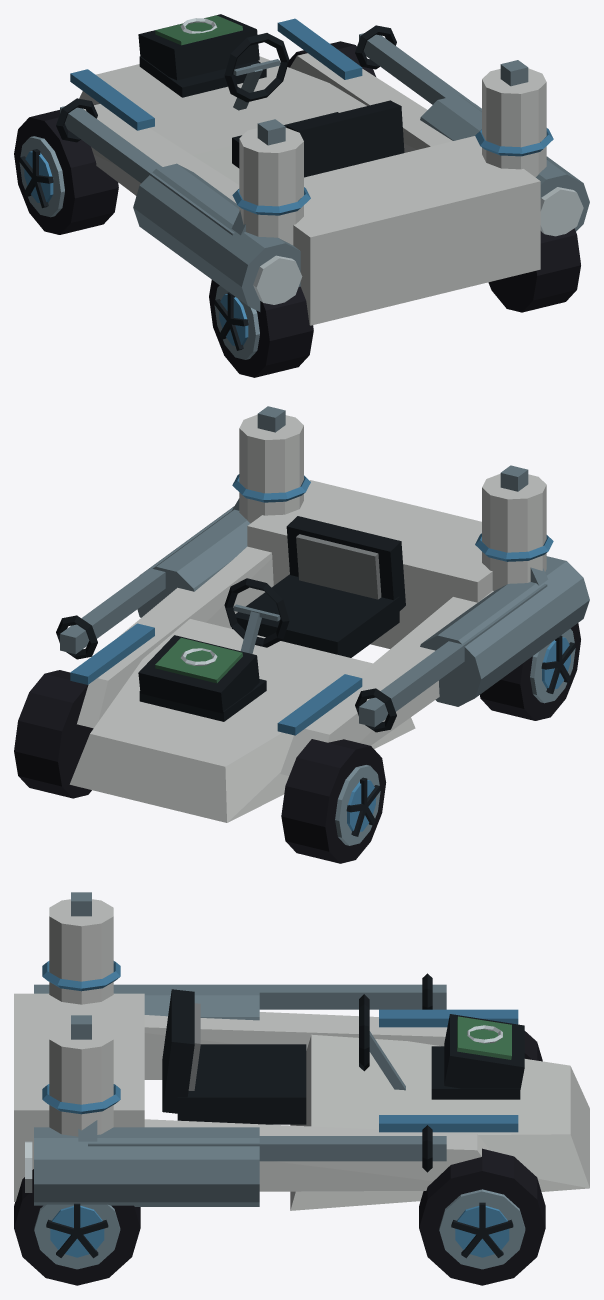
File: kart.glb
3 renders of one model, top to bottom at view 1: azimuth 30°, elevation 25°; view 2: azimuth 150°, elevation 25°; view 3: azimuth 270°, elevation 25°, orthographic. The views are drawn at different scales.
Visible parts, largest first — view 1: identity-lab-pod-lab-pod-segmented-shell, identity-lab-pod-motif-tanks, wheel-front-left, identity-lab-pod-driver-cockpit, identity-lab-pod-motif-pipes, wheel-rear-left, identity-lab-pod-motif-scanner, wheel-rear-right, wheel-front-right; view 2: identity-lab-pod-lab-pod-segmented-shell, identity-lab-pod-driver-cockpit, identity-lab-pod-motif-tanks, wheel-front-left, identity-lab-pod-motif-pipes, wheel-front-right, identity-lab-pod-motif-scanner, wheel-rear-left; view 3: identity-lab-pod-lab-pod-segmented-shell, identity-lab-pod-driver-cockpit, identity-lab-pod-motif-tanks, wheel-front-right, identity-lab-pod-motif-pipes, wheel-rear-right, identity-lab-pod-motif-scanner.
Part boxes in pixels (x1,y1,x2,y2): identity-lab-pod-lab-pod-segmented-shell: (70, 18, 589, 325); identity-lab-pod-motif-tanks: (232, 60, 553, 245); wheel-front-left: (14, 110, 118, 234); identity-lab-pod-driver-cockpit: (224, 33, 404, 177); identity-lab-pod-motif-pipes: (56, 25, 547, 235); wheel-rear-left: (209, 280, 313, 377); identity-lab-pod-motif-scanner: (138, 14, 259, 80); wheel-rear-right: (488, 228, 580, 312); wheel-front-right: (287, 41, 375, 76); identity-lab-pod-lab-pod-segmented-shell: (69, 480, 589, 822); identity-lab-pod-driver-cockpit: (224, 516, 405, 657); identity-lab-pod-motif-tanks: (232, 406, 553, 590); wheel-front-left: (281, 739, 386, 863); identity-lab-pod-motif-pipes: (56, 498, 548, 732); wheel-front-right: (14, 670, 93, 798); identity-lab-pod-motif-scanner: (138, 635, 259, 713); wheel-rear-left: (480, 623, 580, 720); identity-lab-pod-lab-pod-segmented-shell: (14, 984, 589, 1210); identity-lab-pod-driver-cockpit: (162, 989, 405, 1124); identity-lab-pod-motif-tanks: (42, 892, 120, 1136); wheel-front-right: (419, 1148, 545, 1285); identity-lab-pod-motif-pipes: (78, 973, 446, 1172); wheel-rear-right: (14, 1169, 140, 1285); identity-lab-pod-motif-scanner: (444, 1014, 524, 1089).
Size of the model in its own units: 1.98 by 1.3 by 2.73.
